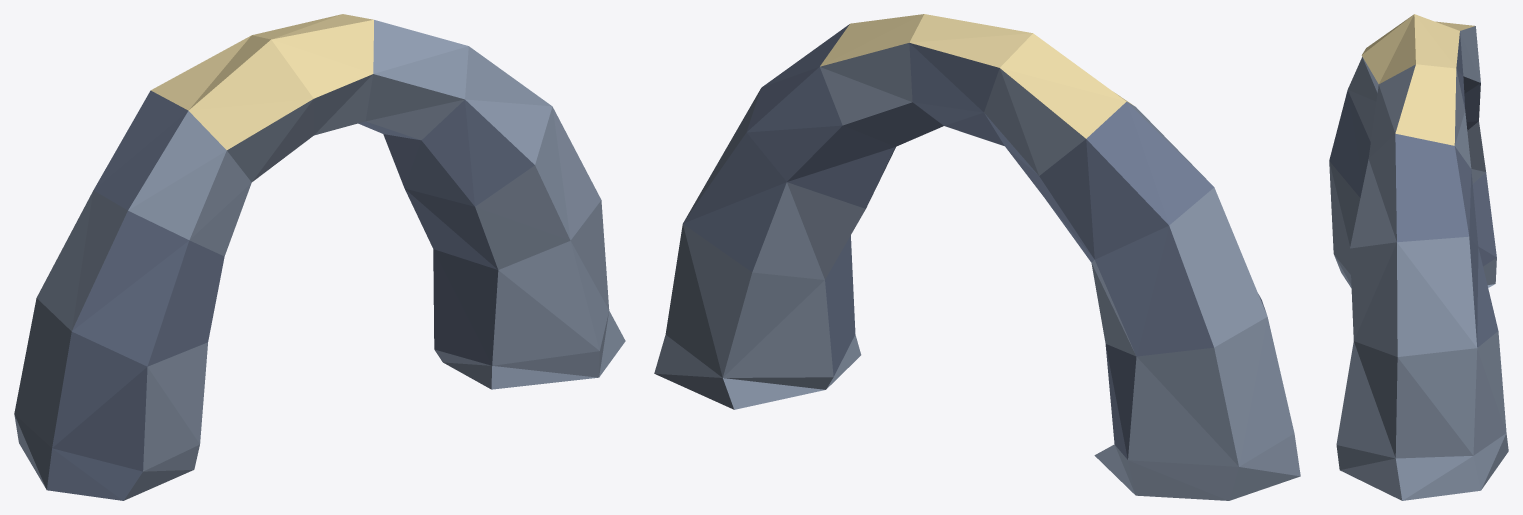
File: rock_arch_reef.fbx
3 views of the same model, side by side, from view 1: azimuth 30°, elevation 25°; view 2: azimuth 150°, elevation 25°; view 3: azimuth 270°, elevation 25° (orthographic). The views are drawn at different scales.
Visible parts, largest first — view 1: rock_arch_reef; view 2: rock_arch_reef; view 3: rock_arch_reef.
Part boxes in pixels (x1=…): rock_arch_reef: x1=14, y1=14, x2=625, y2=500; rock_arch_reef: x1=654, y1=14, x2=1300, y2=500; rock_arch_reef: x1=1329, y1=14, x2=1508, y2=500.
Bounding box in the file's own units: 3069 × 1918 × 918.
1 material, 1 textured.
